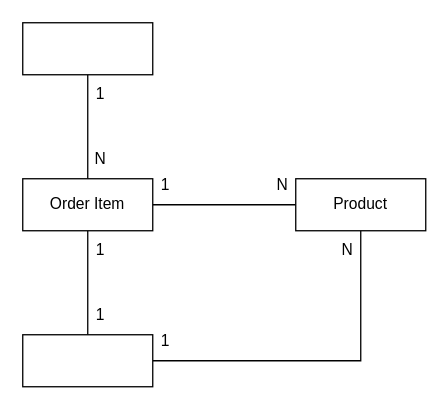
The diagram is 448 pixels wide and 410 high, and some of its shapes have lost their labels. The centre of each missing label's shape, as x and y in pixels:
Order: (87,48)
Rating: (87,360)
